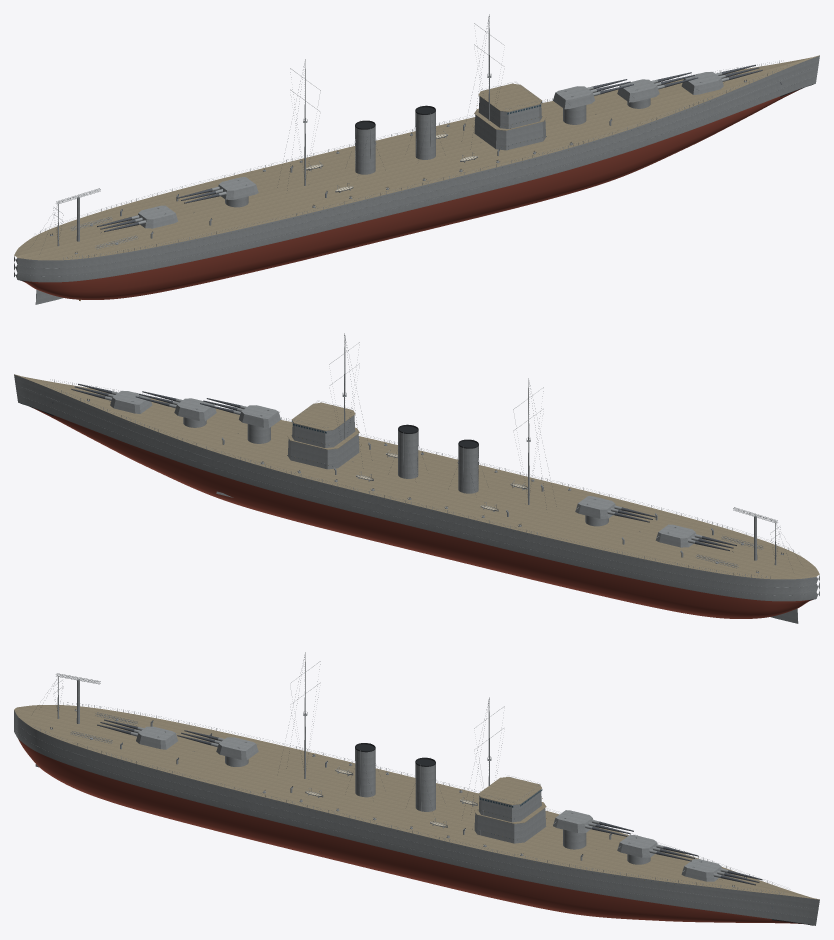
The model's file is united_states_bb27.glb.
The picture shows the model from 3 angles, top to bottom: view 1: azimuth 30°, elevation 25°; view 2: azimuth 150°, elevation 25°; view 3: azimuth 330°, elevation 25°; orthographic projection.
Parts seen in each view (by area): view 1: United States class; view 2: United States class; view 3: United States class.
Part boxes in pixels (left/top/right/bottom): United States class: left=14, top=14, right=819, bottom=304; United States class: left=14, top=333, right=819, bottom=623; United States class: left=14, top=652, right=819, bottom=925.
Size of the model in its own units: 310 by 67.3 by 38.59.
Materials: 8 (2 with a texture image).
